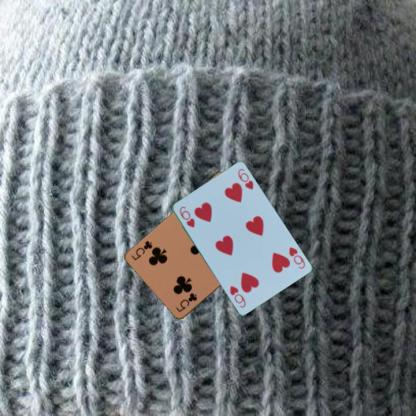5c: (173, 290, 198, 314)
6h: (286, 244, 306, 270), (177, 203, 196, 229)
